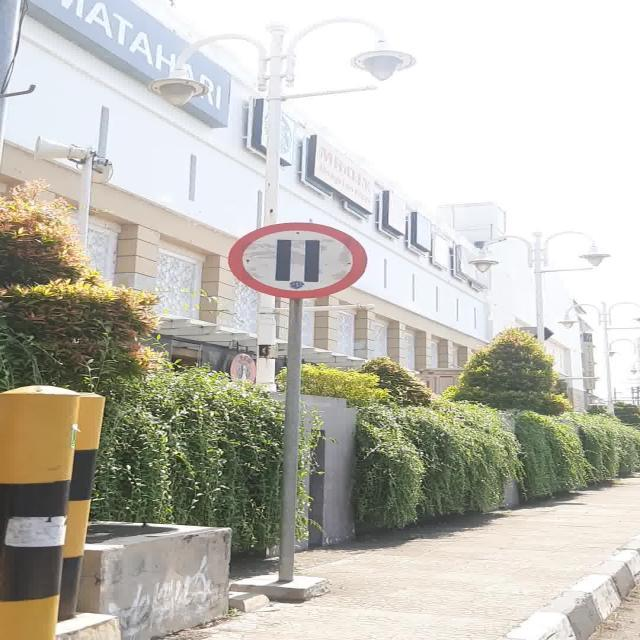Larangan Muatan - 10 ton: (229, 222, 367, 298)
